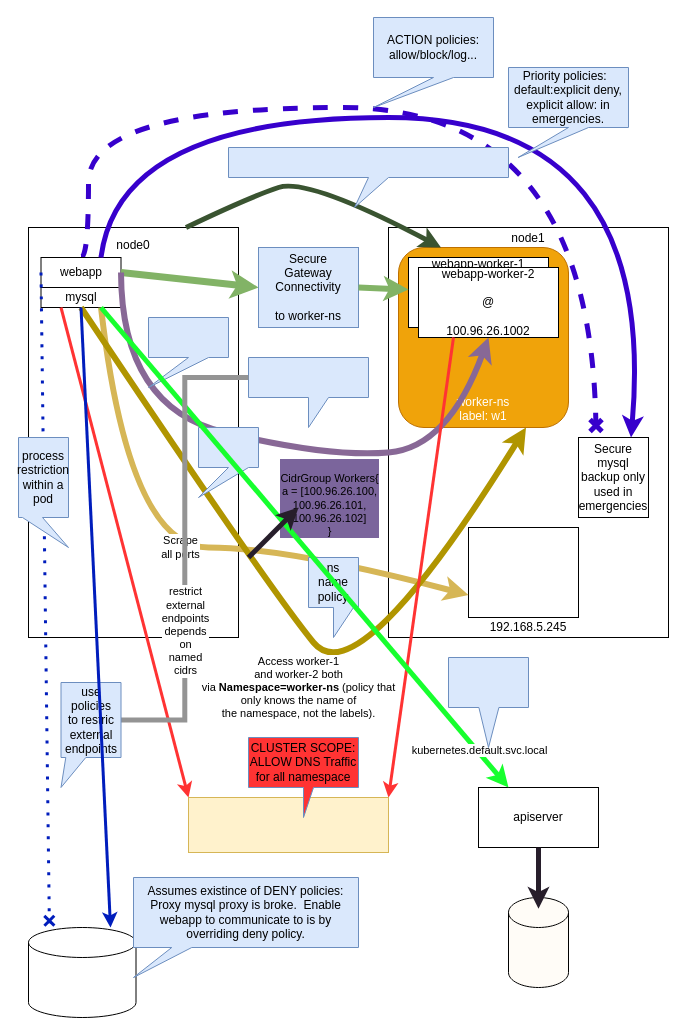
Image size: 686x1035. Some labels were removed from this diagram. Each missing label, with the box of its shape:
Allow webapp traffic anontmously bc it comes from by ingress: node0: (228, 146, 508, 208)
cloud mysql: (28, 926, 136, 1018)
default k8s internal svc policy: (448, 656, 528, 748)
default port ranges: (148, 316, 228, 388)
etcd: (508, 896, 568, 988)
Internal DNS Services: (188, 796, 388, 852)
Named CidrBlock/IPSets: (248, 356, 368, 428)
port range policy: (198, 426, 258, 498)
Worker pod that serves data for all outputs on different random tcp port: (468, 526, 578, 618)
